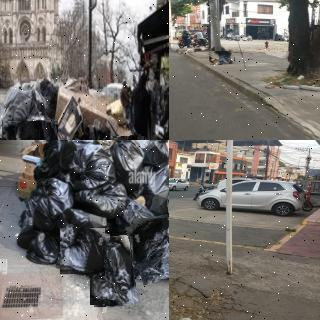Garbage: (88, 235, 136, 306), (129, 215, 169, 282), (58, 226, 108, 277), (29, 178, 73, 226), (74, 175, 127, 214), (63, 140, 110, 176), (142, 167, 169, 214), (42, 140, 76, 174), (6, 119, 59, 140), (110, 140, 143, 170), (144, 140, 168, 168), (209, 51, 234, 65)
